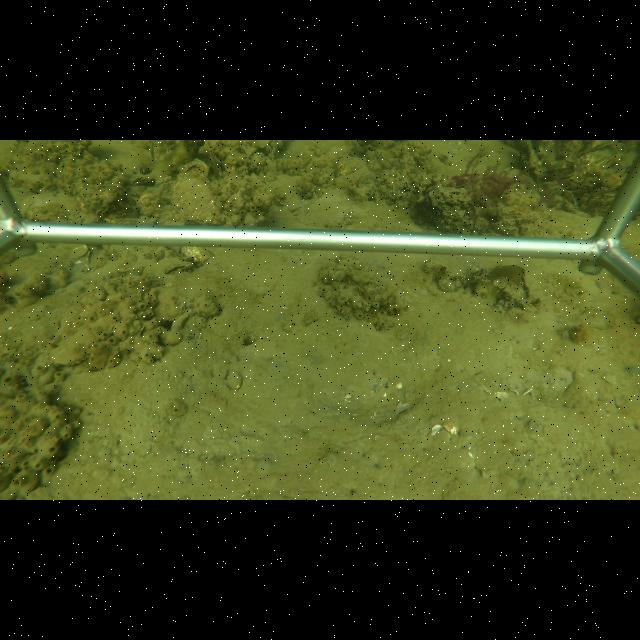Oyster-Closed: (171, 158, 221, 226), (49, 327, 97, 367), (183, 255, 195, 263)
